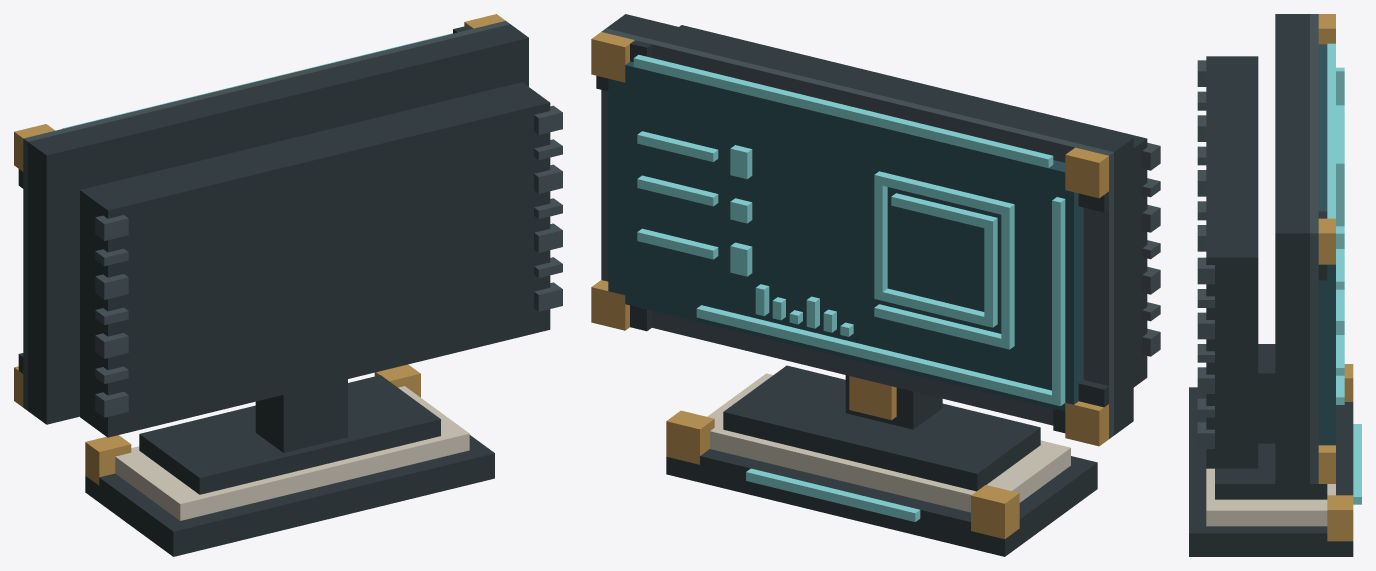
The picture shows the model from 3 angles, left to right: view 1: azimuth 30°, elevation 25°; view 2: azimuth 150°, elevation 25°; view 3: azimuth 270°, elevation 25°; orthographic projection. The views are drawn at different scales.
Visible parts, largest first — view 1: 桌面显示器与支座; view 2: 桌面显示器与支座; view 3: 桌面显示器与支座.
Part boxes in pixels (box(x1,y1,x2,y2)): 桌面显示器与支座: box(14, 14, 562, 556); 桌面显示器与支座: box(591, 14, 1160, 556); 桌面显示器与支座: box(1189, 14, 1361, 556).
Bounding box in the file's own units: 0.6 × 0.46 × 0.2.
Materials: 6 (6 with a texture image).
